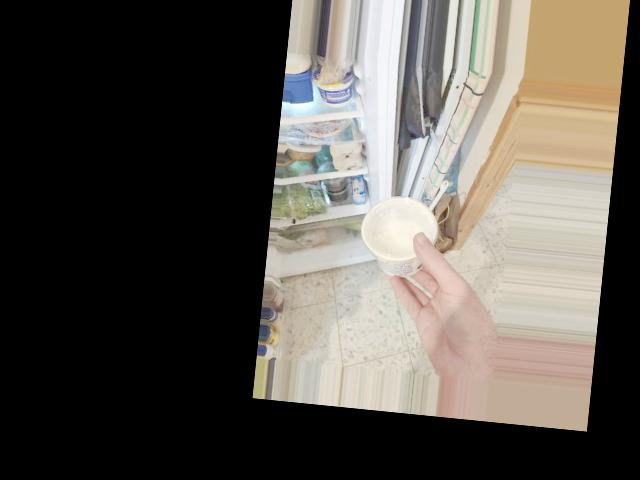cotage: (369, 195, 446, 285)
